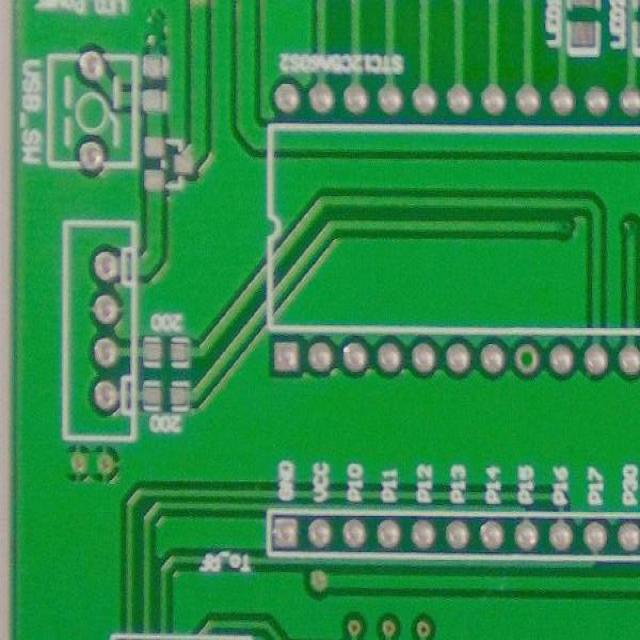missing hole: (511, 335, 542, 380)
